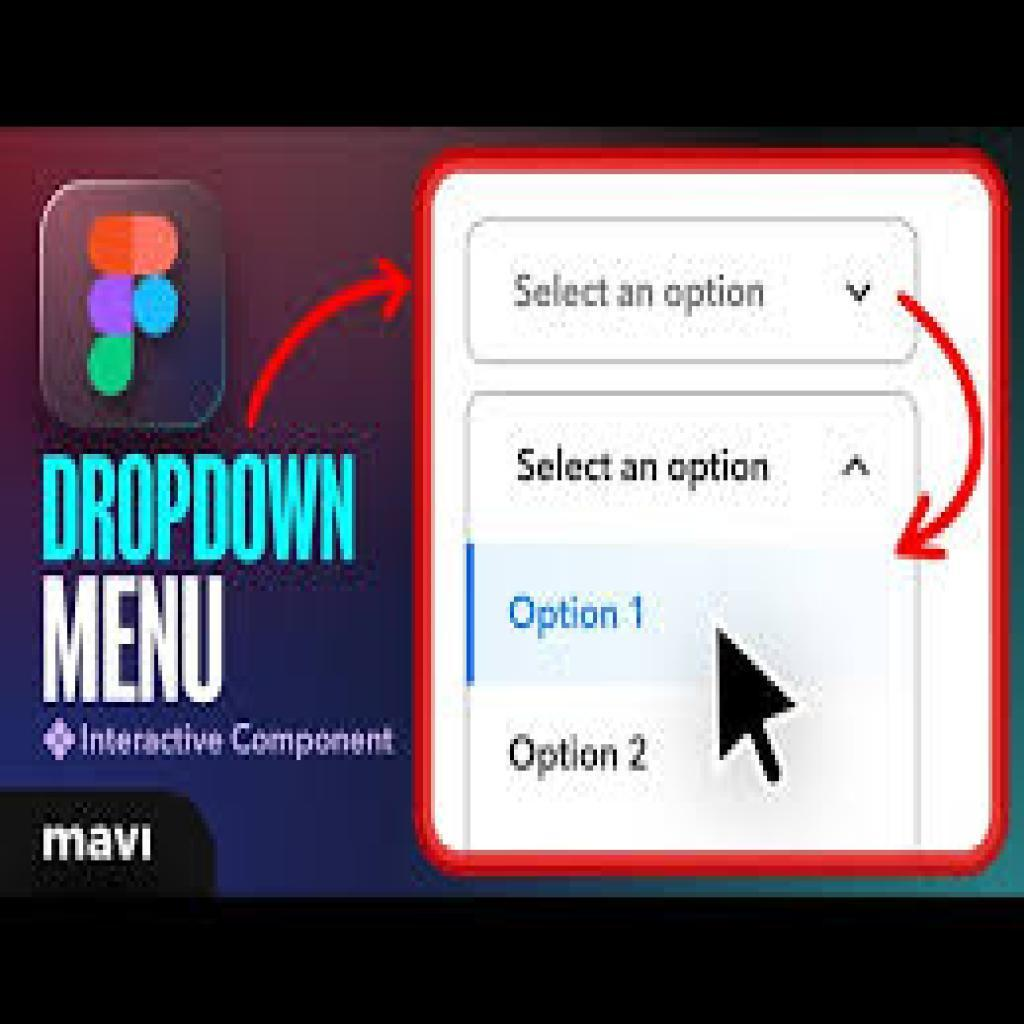dropdown: (469, 216, 919, 366)
